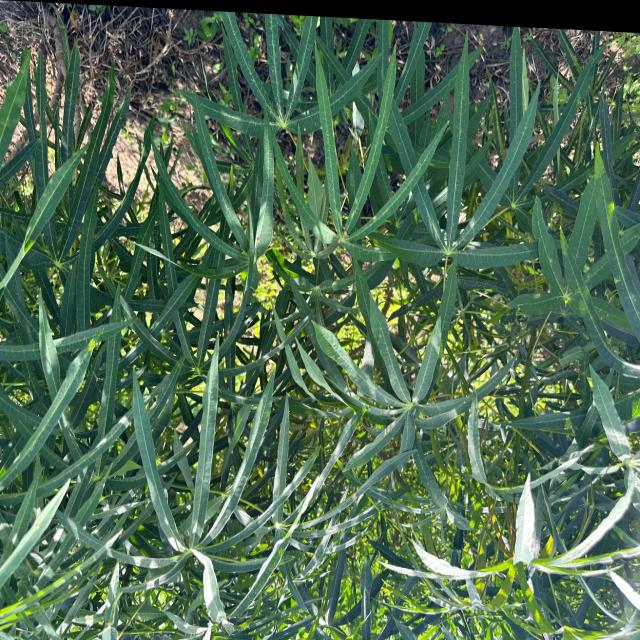Mosca: (602, 273, 622, 291), (282, 55, 298, 71), (172, 253, 186, 270), (613, 221, 625, 233), (227, 266, 237, 279)
